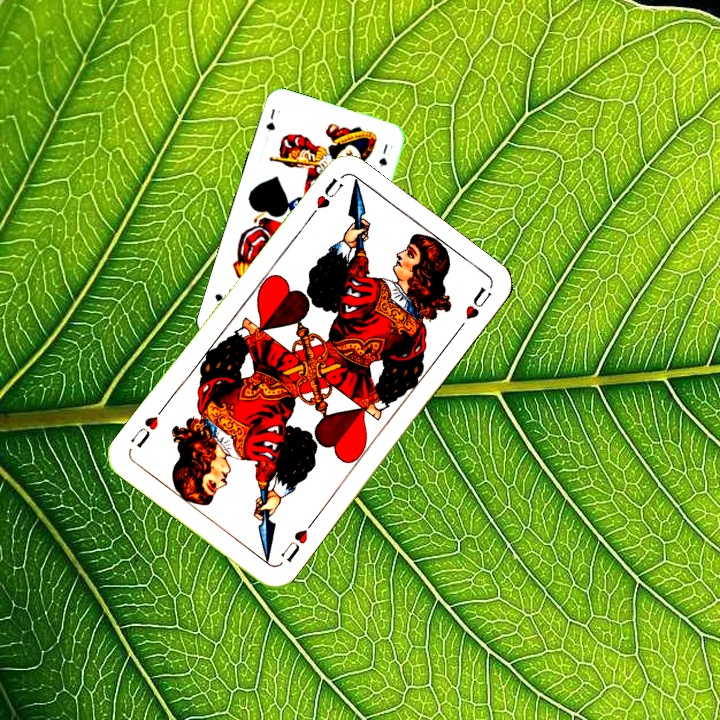GU: (262, 104, 283, 134)
HU: (303, 174, 346, 223), (276, 516, 317, 565)
